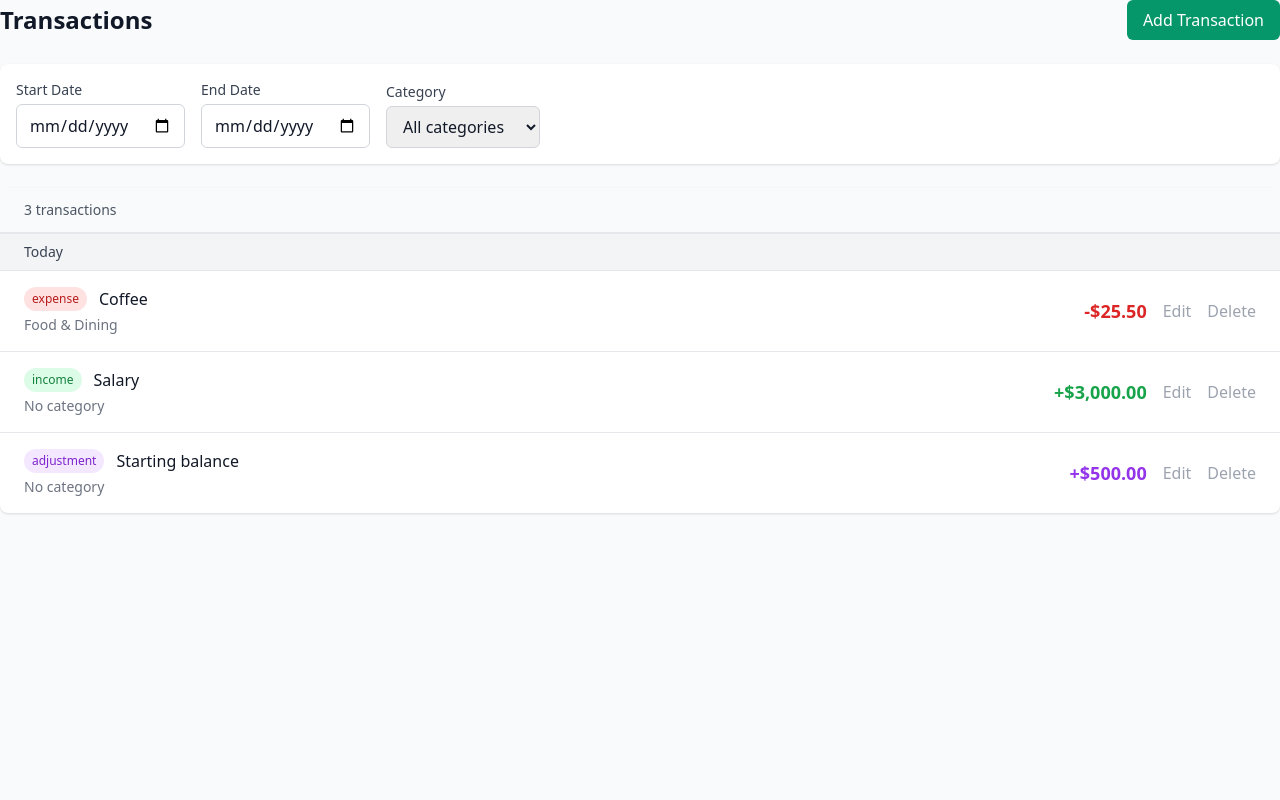
Test: TransactionsPage › can fill and submit transaction form
Note: Open form
Click the button "Add Transaction".
click(1203, 20)  # box [1127,0,1279,40]
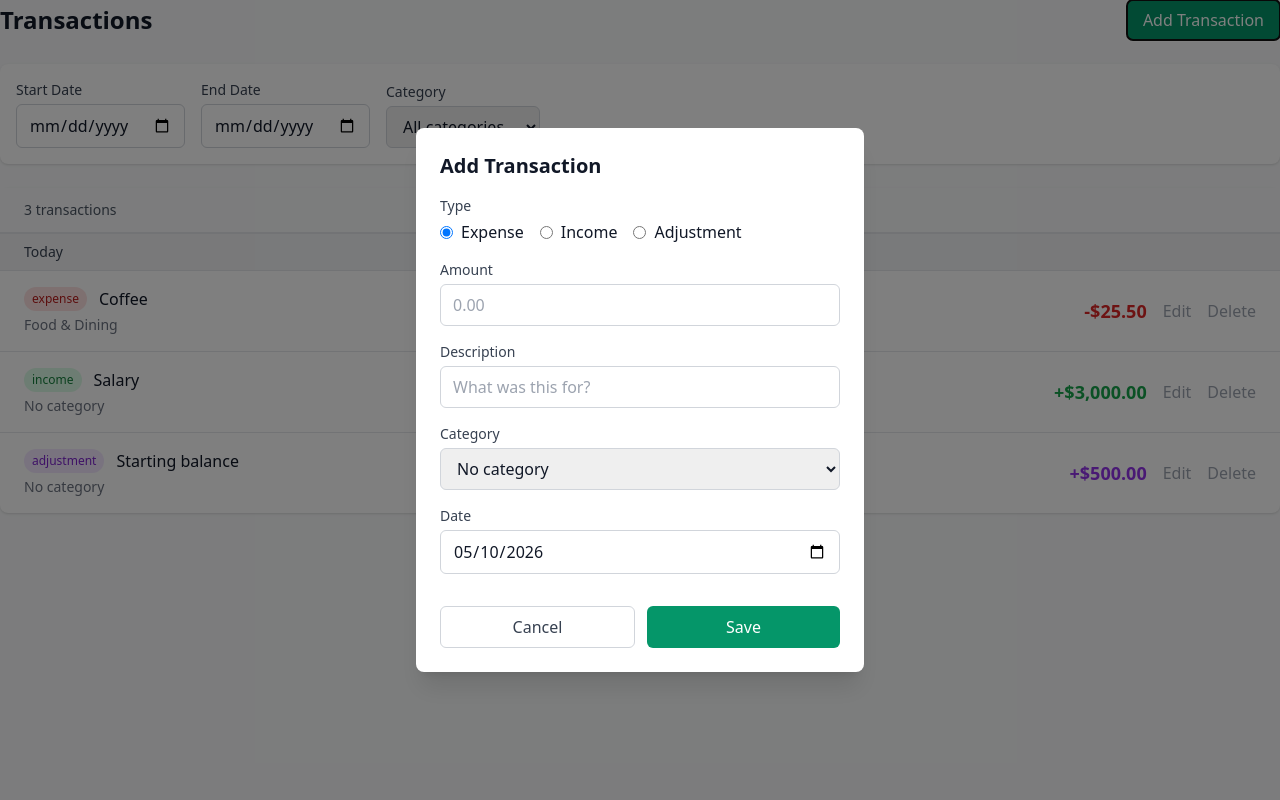
Result: the number field with placeholder "0.00" is shown
Note: Fill form using placeholders
Type "50.00" into the number field with placeholder "0.00".
click(640, 305); type("50.00")  # box [440,284,840,326]
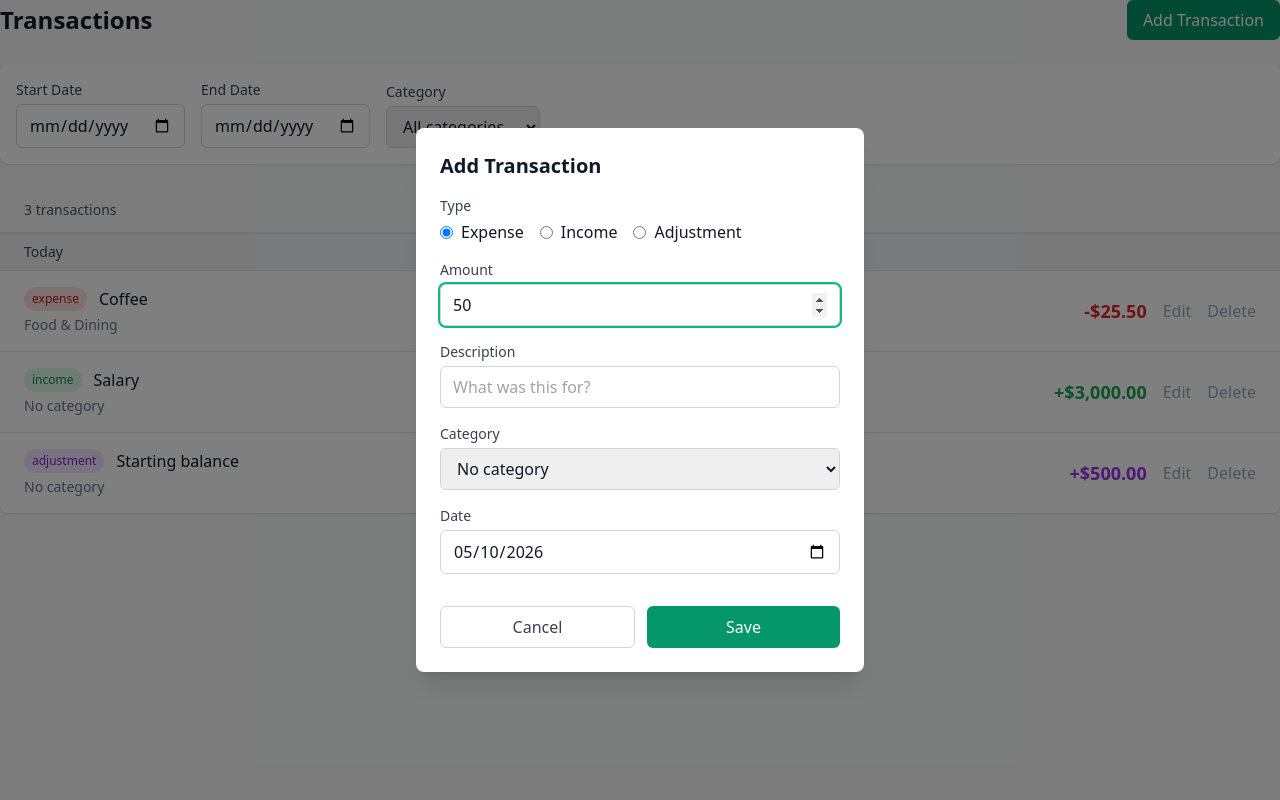
Type "Test expense" into the field with placeholder "What was this for?".
click(640, 387); type("Test expense")  # box [440,366,840,408]
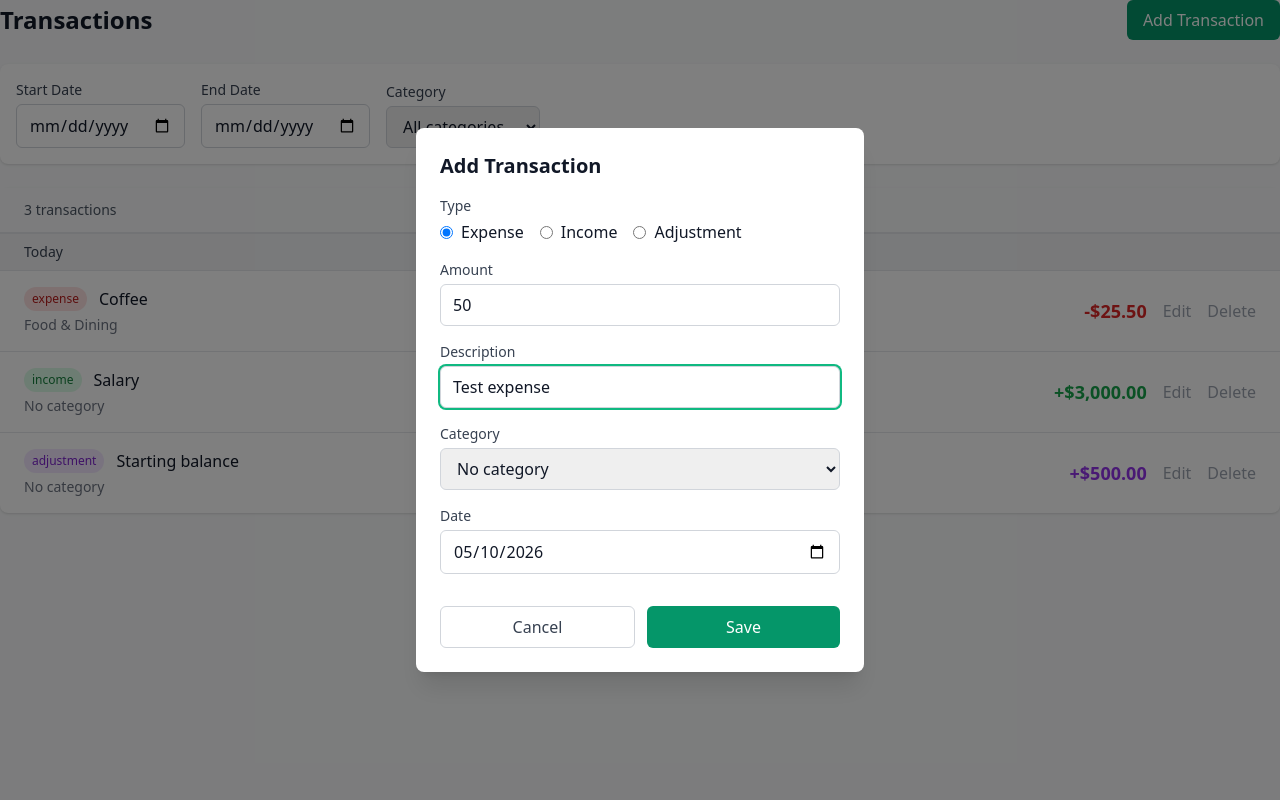
Click the button "Save".
click(744, 627)  # box [647,606,840,648]
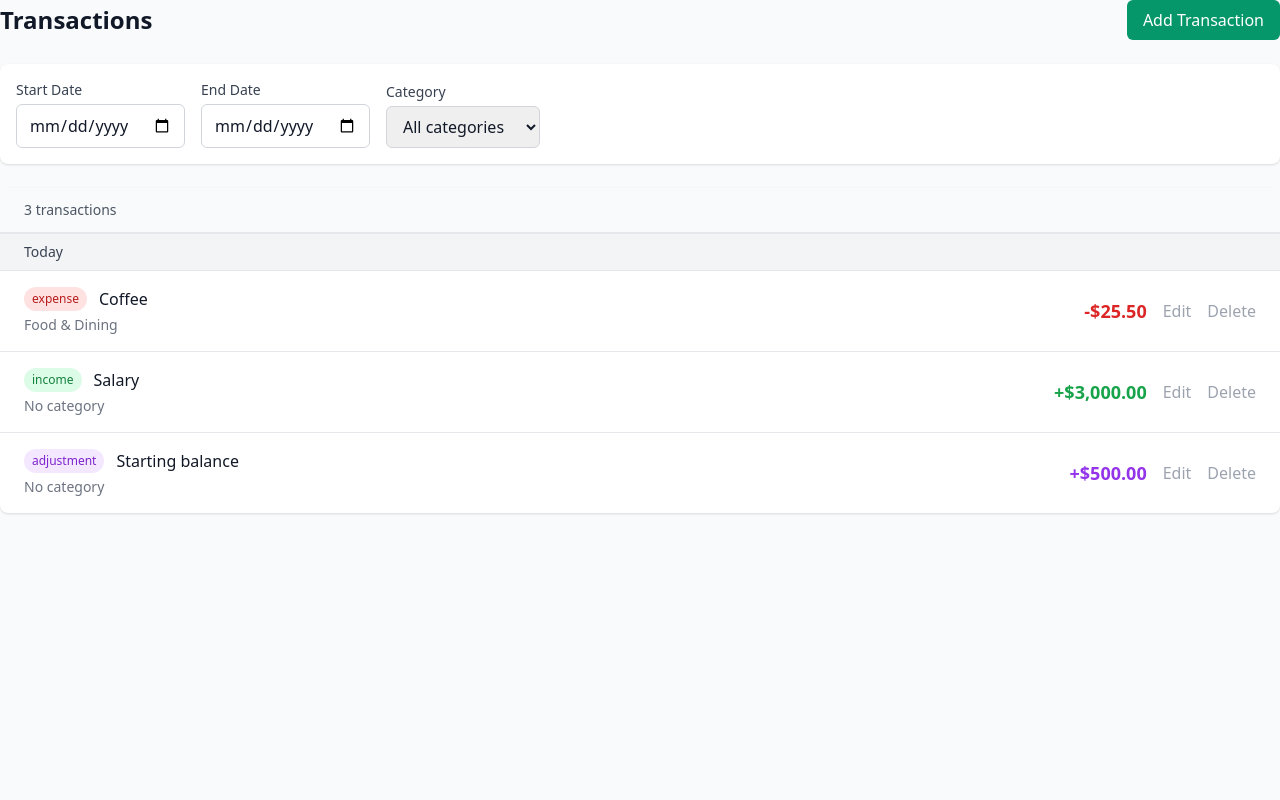
Result: the button "Save" is gone
